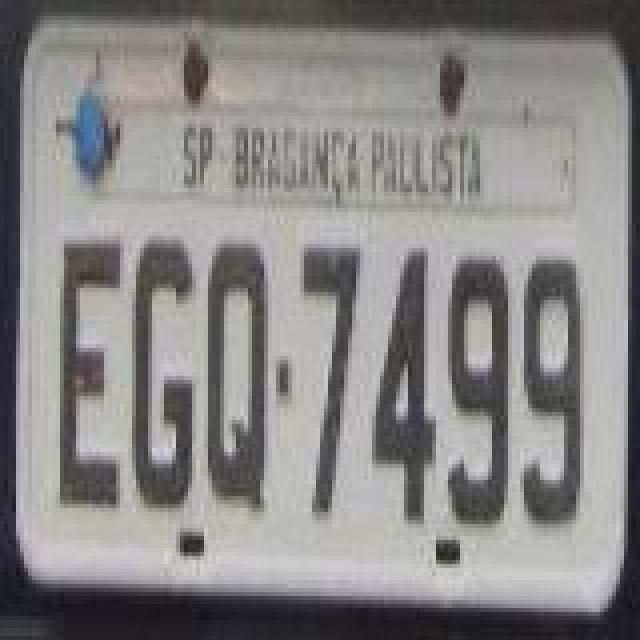4: (372, 242, 436, 526)
7: (296, 238, 360, 514)
9: (520, 250, 584, 534), (448, 250, 512, 526)
E: (54, 238, 122, 514)
G: (132, 230, 196, 514)
Q: (204, 234, 268, 518)
